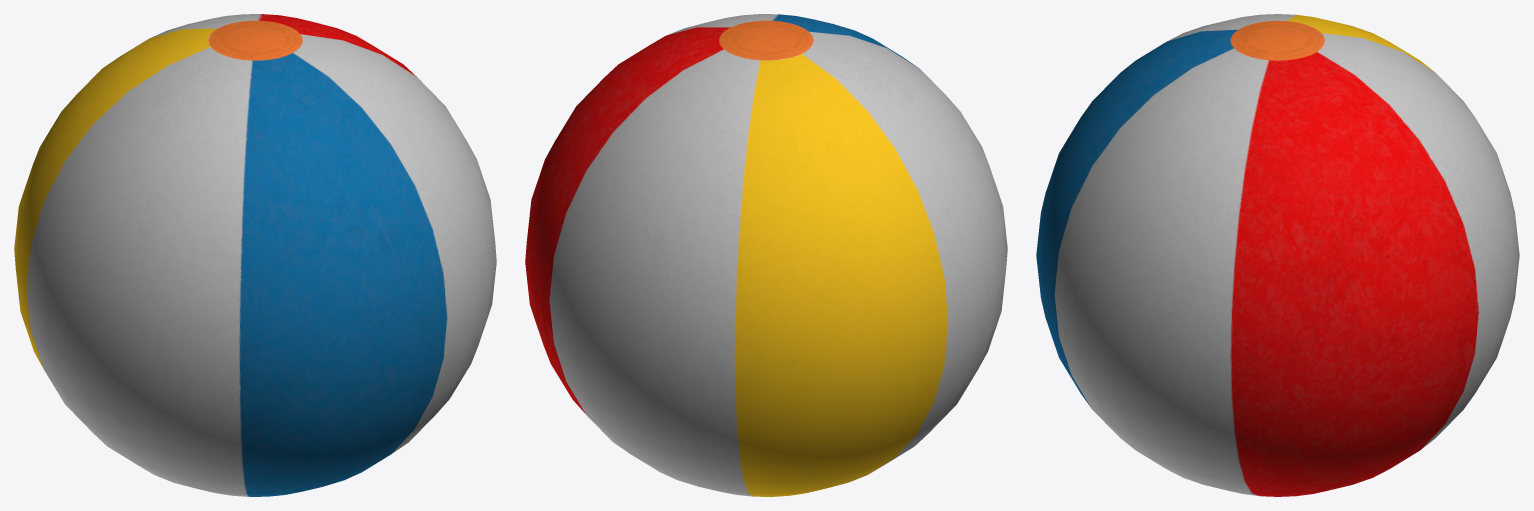
The model's file is beach_ball.glb.
The picture shows the model from 3 angles, left to right: view 1: azimuth 30°, elevation 25°; view 2: azimuth 150°, elevation 25°; view 3: azimuth 270°, elevation 25°; orthographic projection.
Visible parts, largest first — view 1: beach_ball; view 2: beach_ball; view 3: beach_ball.
Part boxes in pixels (x1,y1,x2,y2): beach_ball: (14,14,496,496); beach_ball: (525,14,1007,496); beach_ball: (1036,14,1519,496).
Size of the model in its own units: 27.29 by 27.22 by 27.29.
Materials: 1 (1 with a texture image).
